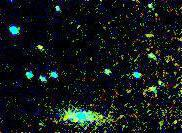star: (161, 109, 182, 133)
